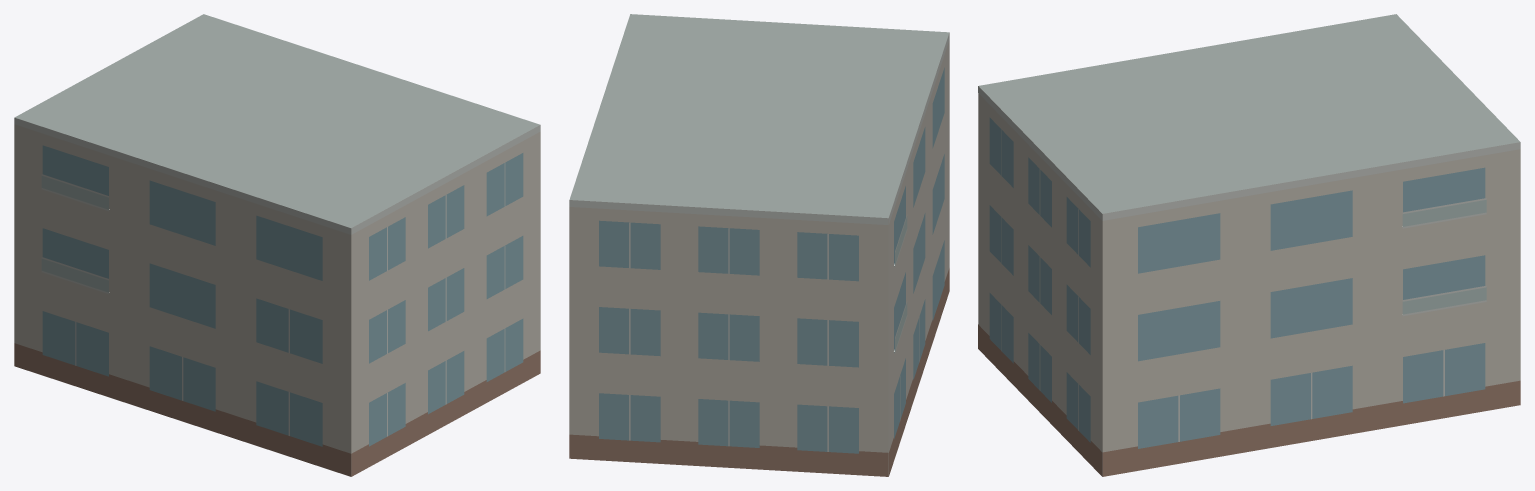
The model's file is survey-upis-32722162.glb.
3 renders of one model, left to right at view 1: azimuth 30°, elevation 25°; view 2: azimuth 150°, elevation 25°; view 3: azimuth 270°, elevation 25°, orthographic. The views are drawn at different scales.
Parts seen in each view (by area): view 1: survey-upis-32722162.tmp; view 2: survey-upis-32722162.tmp; view 3: survey-upis-32722162.tmp.
Part boxes in pixels (x1,y1,x2,y2): survey-upis-32722162.tmp: (14,14,540,476); survey-upis-32722162.tmp: (569,14,949,476); survey-upis-32722162.tmp: (978,14,1520,476).
Bounding box in the file's own units: 14.85 × 9.1 × 17.02.
